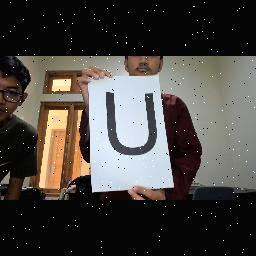u: (100, 90, 164, 160)
